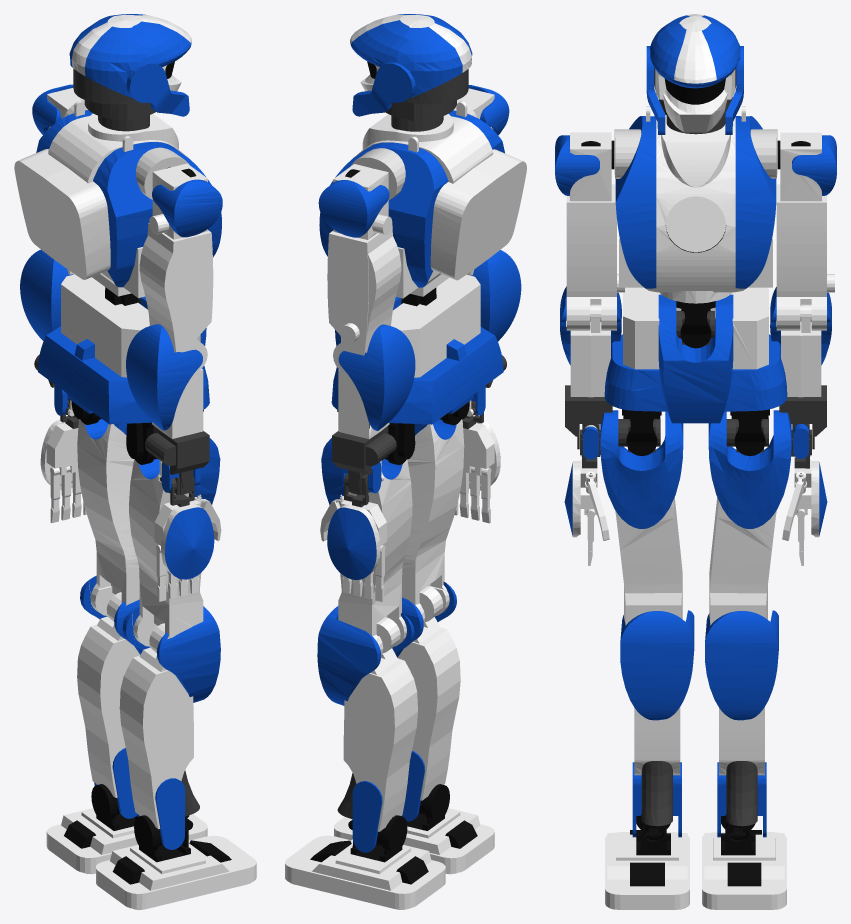
The model's file is hrp4r.dae.
The picture shows the model from 3 angles, left to right: view 1: azimuth 30°, elevation 25°; view 2: azimuth 150°, elevation 25°; view 3: azimuth 270°, elevation 25°; orthographic projection.
Parts seen in each view (by area): view 1: CHEST_Y_LINK (×4), R_KNEE_P_LINK (×2), BODY (×2), NECK_P_LINK (×3), L_KNEE_P_LINK (×2), L_HIP_P_LINK, R_FOOT_LINK (×2), R_SHOULDER_Y_LINK, R_HIP_P_LINK (×2), R_ELBOW_P_LINK (×2), R_SHOULDER_R_LINK (×2), L_FOOT_LINK (×2) (+9 smaller); view 2: CHEST_Y_LINK (×4), L_KNEE_P_LINK (×2), BODY (×2), NECK_P_LINK (×3), R_KNEE_P_LINK (×2), L_FOOT_LINK (×2), R_HIP_P_LINK, L_SHOULDER_Y_LINK, L_HIP_P_LINK (×2), L_ELBOW_P_LINK (×2), L_SHOULDER_R_LINK (×2), R_FOOT_LINK (×2) (+9 smaller); view 3: CHEST_Y_LINK (×4), BODY (×2), R_KNEE_P_LINK (×3), L_KNEE_P_LINK (×3), L_HIP_P_LINK (×2), R_HIP_P_LINK (×2), NECK_P_LINK (×3), L_SHOULDER_Y_LINK, R_SHOULDER_Y_LINK, L_FOOT_LINK (×2), R_FOOT_LINK (×2), R_ELBOW_P_LINK (×2) (+14 smaller).
Part boxes in pixels (bbox=[...]): CHEST_Y_LINK (×4): bbox=[14, 99, 221, 298]; R_KNEE_P_LINK (×2): bbox=[119, 606, 220, 849]; BODY (×2): bbox=[38, 274, 209, 424]; NECK_P_LINK (×3): bbox=[69, 14, 191, 116]; L_KNEE_P_LINK (×2): bbox=[77, 575, 142, 818]; L_HIP_P_LINK: bbox=[77, 419, 139, 615]; R_FOOT_LINK (×2): bbox=[96, 835, 256, 909]; R_SHOULDER_Y_LINK: bbox=[139, 223, 213, 372]; R_HIP_P_LINK (×2): bbox=[129, 438, 220, 646]; R_ELBOW_P_LINK (×2): bbox=[126, 324, 203, 438]; R_SHOULDER_R_LINK (×2): bbox=[149, 163, 222, 239]; L_FOOT_LINK (×2): bbox=[46, 808, 207, 874]; CHEST_Y_LINK (×4): bbox=[319, 99, 526, 298]; L_KNEE_P_LINK (×2): bbox=[317, 606, 417, 852]; BODY (×2): bbox=[331, 274, 503, 424]; NECK_P_LINK (×3): bbox=[350, 14, 472, 116]; R_KNEE_P_LINK (×2): bbox=[395, 582, 460, 821]; L_FOOT_LINK (×2): bbox=[285, 835, 445, 909]; R_HIP_P_LINK: bbox=[402, 419, 464, 623]; L_SHOULDER_Y_LINK: bbox=[327, 224, 401, 374]; L_HIP_P_LINK (×2): bbox=[321, 438, 412, 655]; L_ELBOW_P_LINK (×2): bbox=[338, 324, 415, 439]; L_SHOULDER_R_LINK (×2): bbox=[318, 164, 392, 239]; R_FOOT_LINK (×2): bbox=[334, 808, 494, 874]; CHEST_Y_LINK (×4): bbox=[614, 106, 777, 303]; BODY (×2): bbox=[604, 287, 787, 423]; R_KNEE_P_LINK (×3): bbox=[620, 610, 694, 837]; L_KNEE_P_LINK (×3): bbox=[705, 610, 778, 837]; L_HIP_P_LINK (×2): bbox=[708, 410, 791, 625]; R_HIP_P_LINK (×2): bbox=[600, 410, 683, 625]; NECK_P_LINK (×3): bbox=[646, 14, 743, 134]; L_SHOULDER_Y_LINK: bbox=[776, 184, 834, 330]; R_SHOULDER_Y_LINK: bbox=[566, 184, 624, 330]; L_FOOT_LINK (×2): bbox=[702, 830, 786, 909]; R_FOOT_LINK (×2): bbox=[605, 830, 689, 909]; R_ELBOW_P_LINK (×2): bbox=[560, 286, 621, 397].
Size of what is drawn, in the model's own units: 0.3191 by 0.456 by 1.51.
